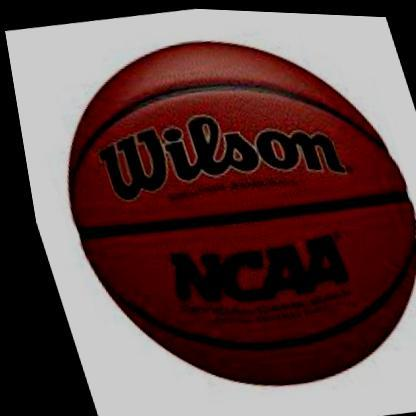basketball: (14, 6, 416, 414)
